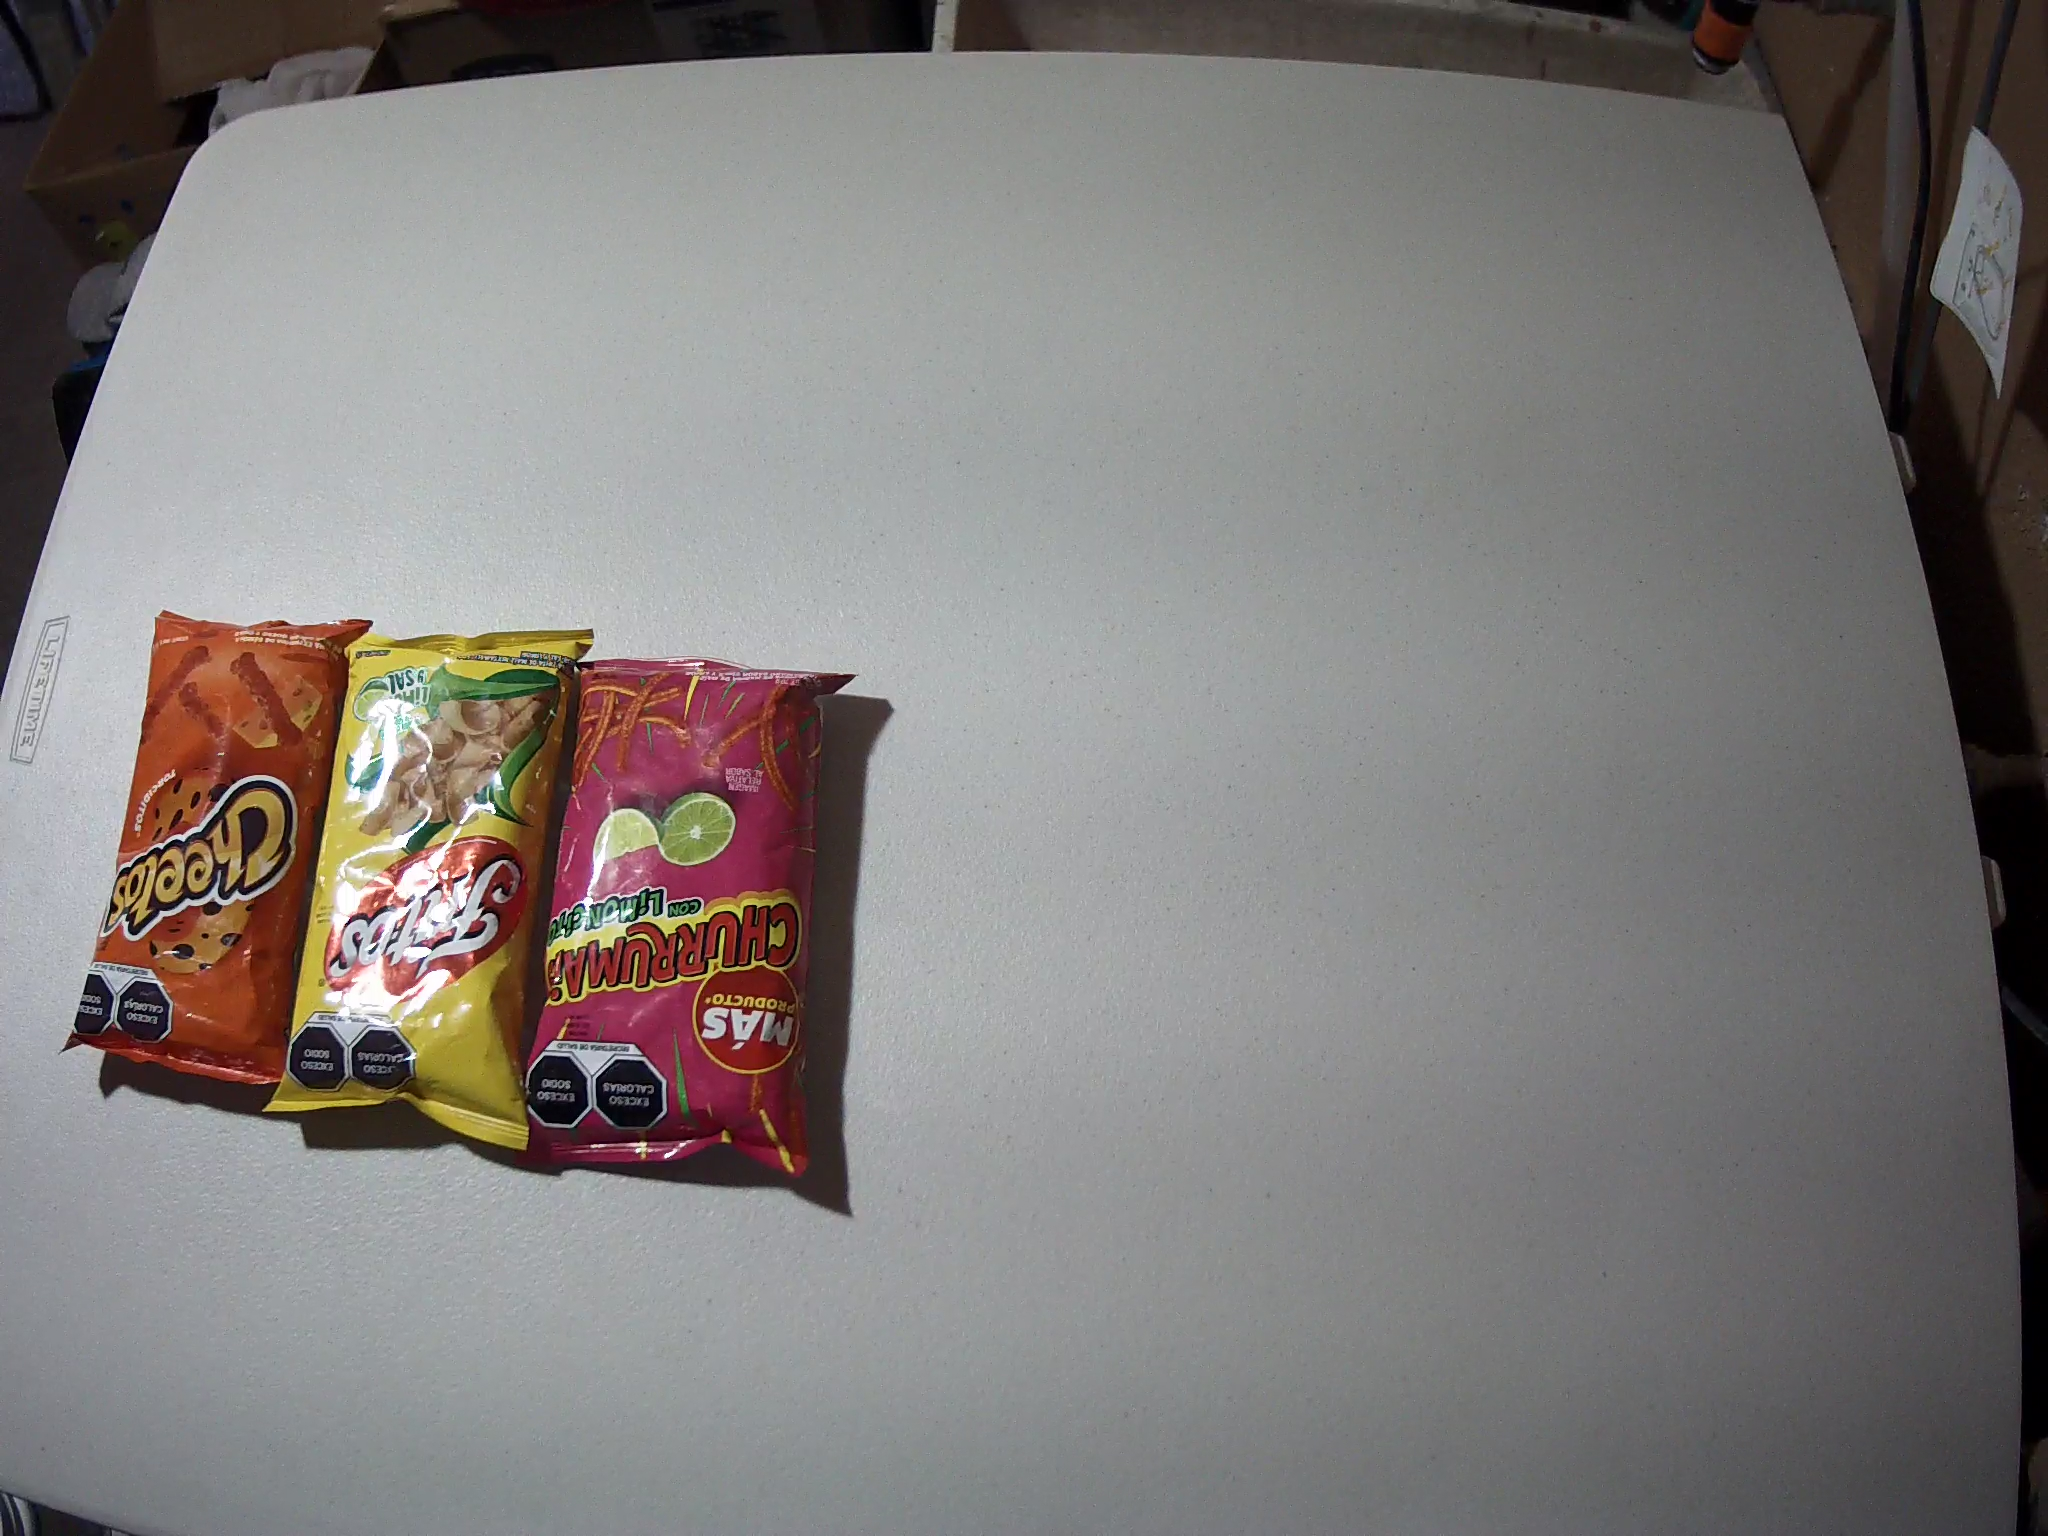CheetosTorciditos_55_F: (63, 607, 371, 1081)
Churrumais_70_F: (526, 658, 856, 1183)
FritosSalLimon_65_F: (284, 629, 592, 1152)
